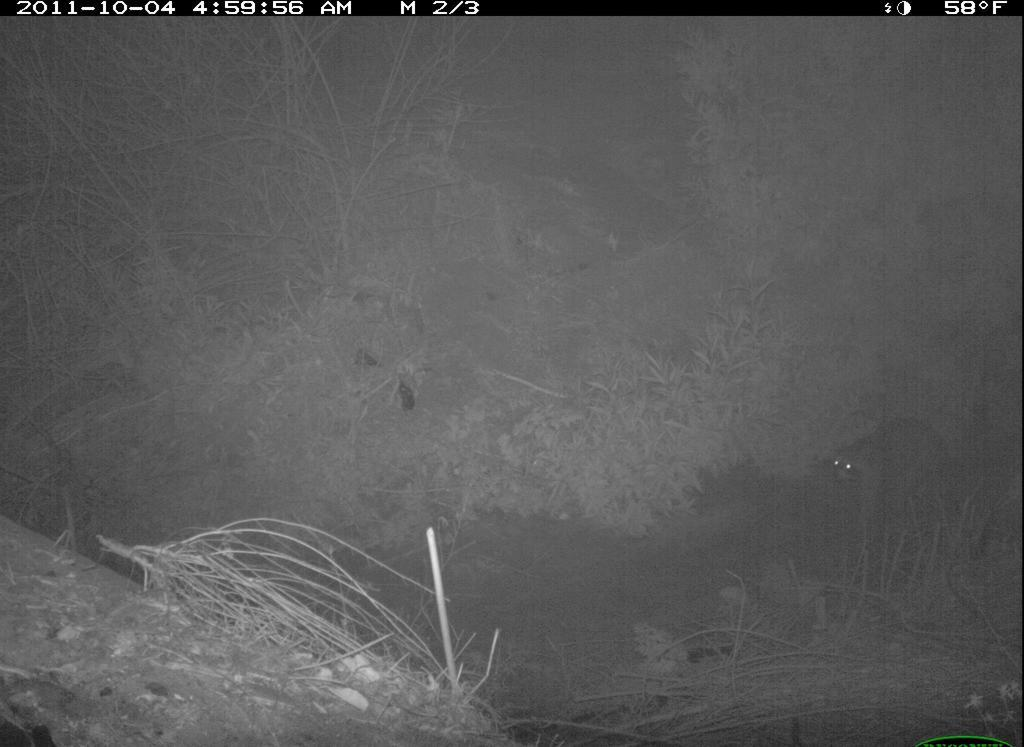raccoon: (813, 408, 985, 527)
